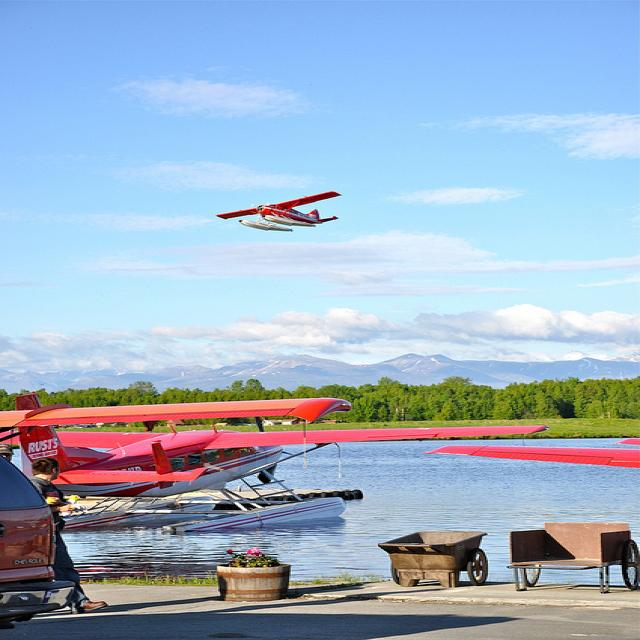Vehicle: (2, 459, 68, 625)
